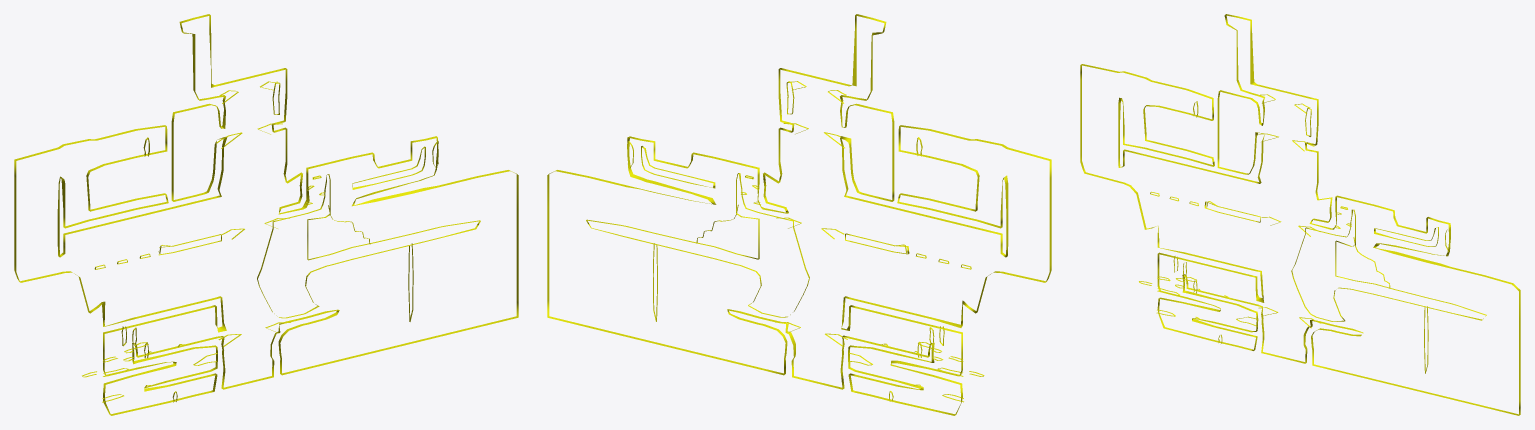
The model's file is levelprebosscollider.fbx.
3 renders of one model, left to right at view 1: azimuth 30°, elevation 25°; view 2: azimuth 150°, elevation 25°; view 3: azimuth 330°, elevation 25°, orthographic. The views are drawn at different scales.
Visible parts, largest first — view 1: polySurface2, polySurface5; view 2: polySurface2, polySurface5; view 3: polySurface2, polySurface5.
Part boxes in pixels (x1,y1,x2,y2): polySurface2: (14,14,518,415); polySurface5: (257,174,480,318); polySurface2: (547,14,1051,415); polySurface5: (586,173,809,317); polySurface2: (1080,14,1520,415); polySurface5: (1291,209,1486,321).
Bounding box in the file's own units: 381 × 275 × 2.54.
